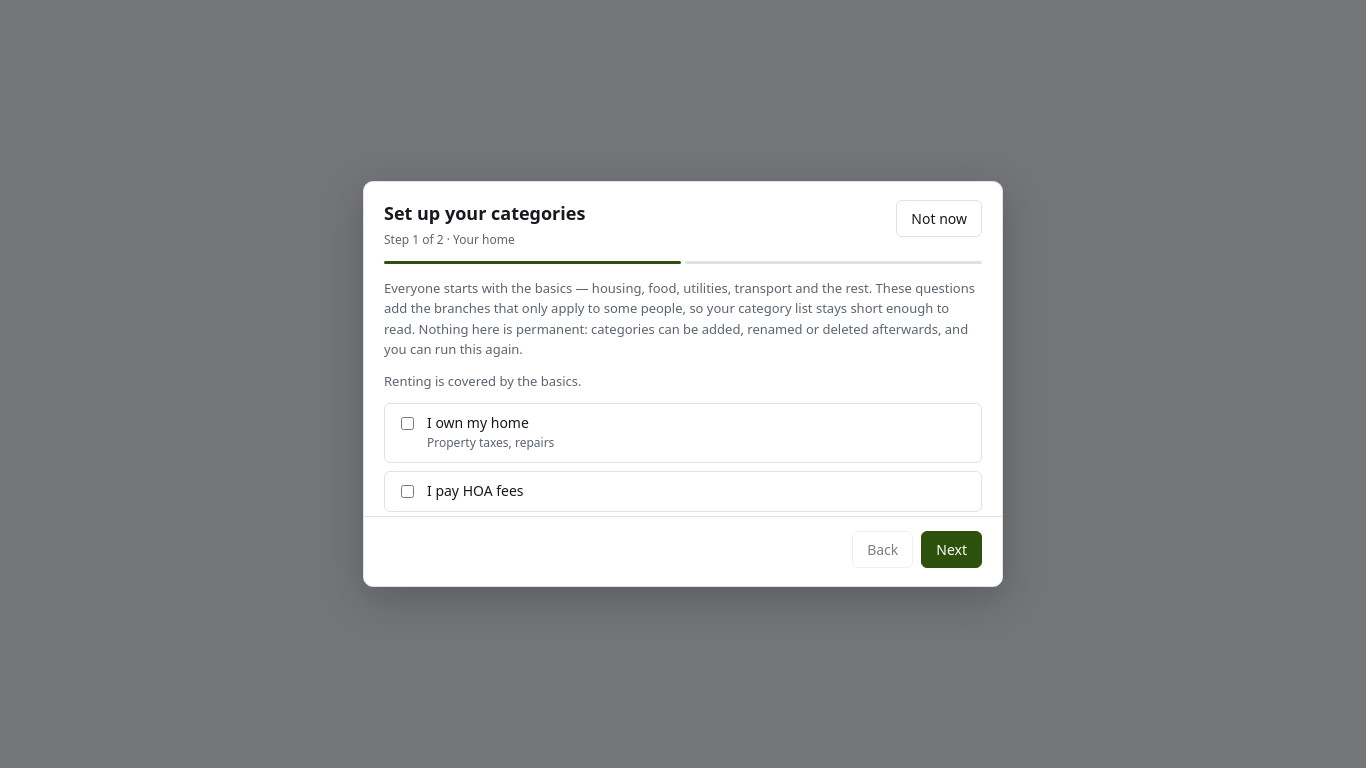
Scenario: when setup has never been run › closes once setup reports as finished
Expected: the dialog is shown, [363,181,1003,587]
Click the button "Next". click: (952, 549)
box: [921,531,982,568]
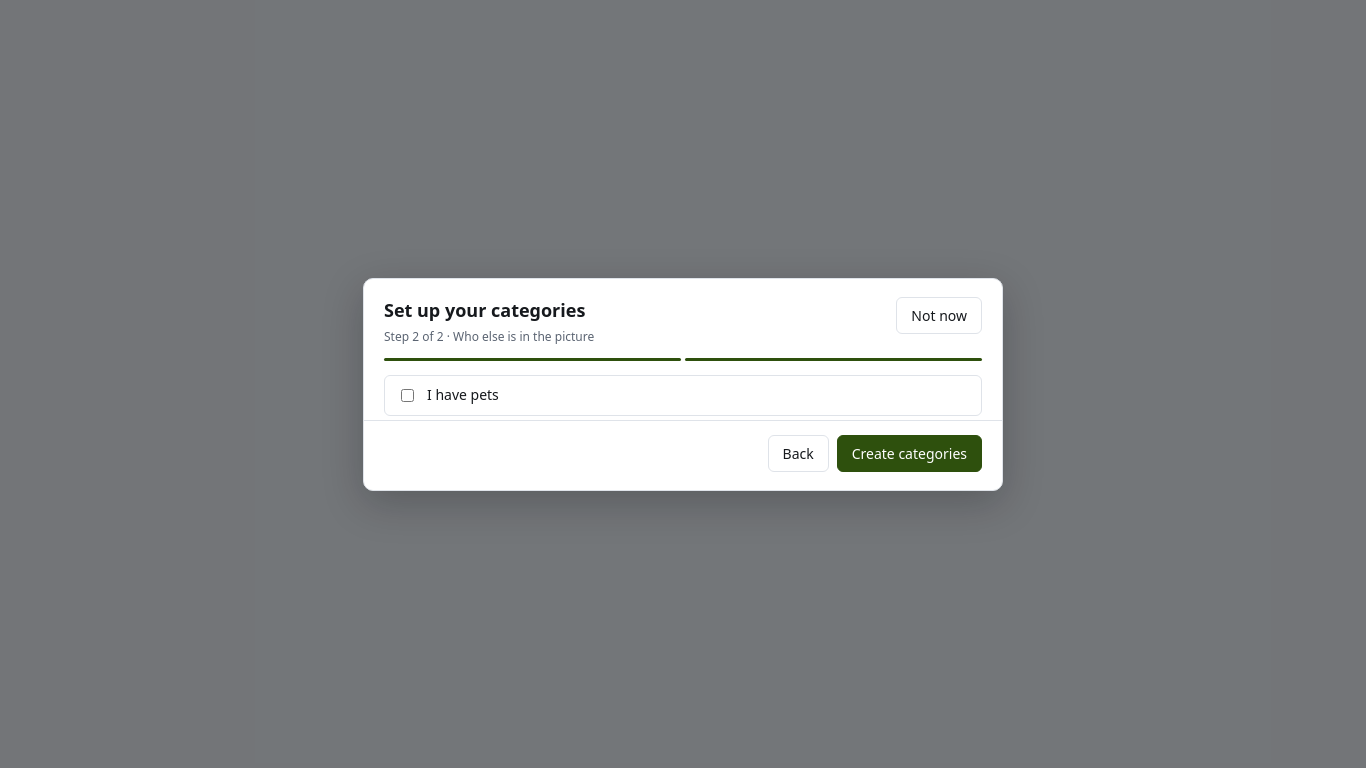
Click the button "Create categories". click: (909, 453)
box: [837,434,982,472]
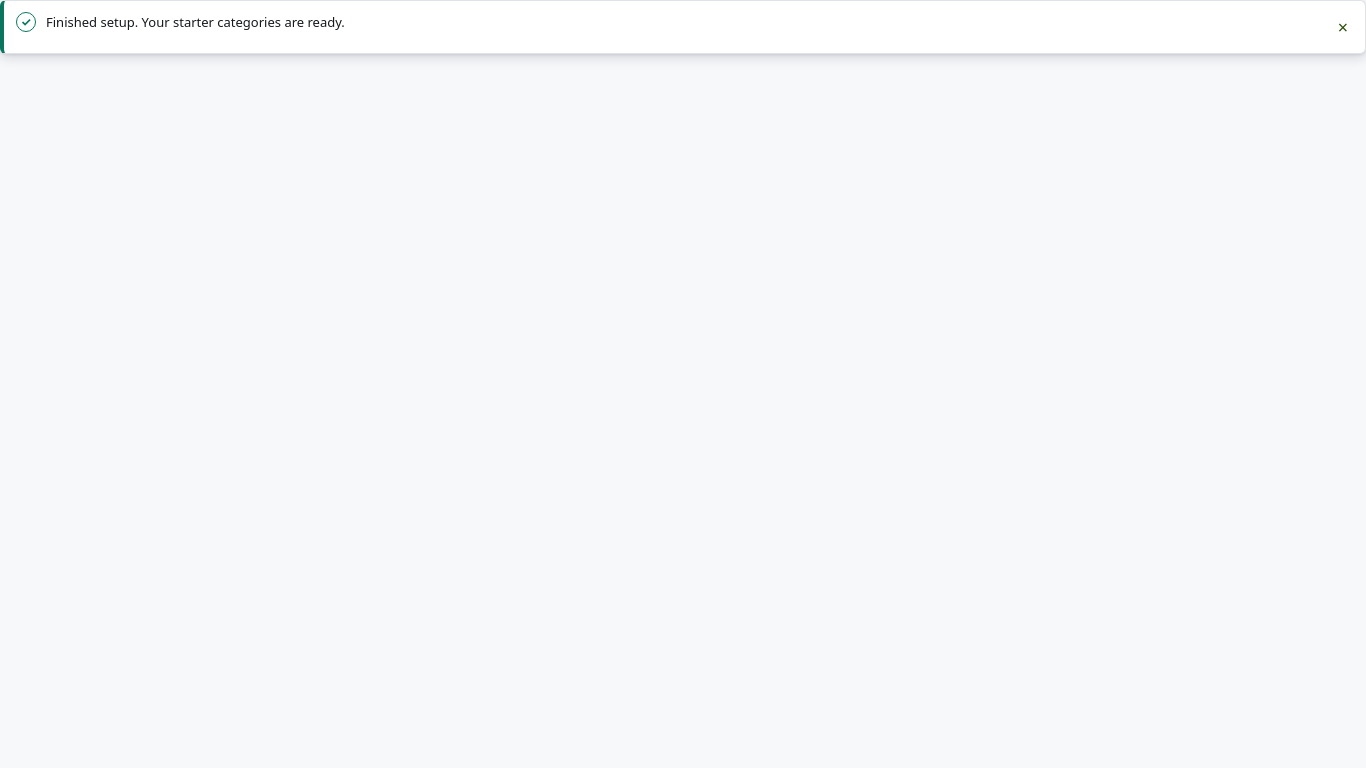
Result: the dialog is gone
